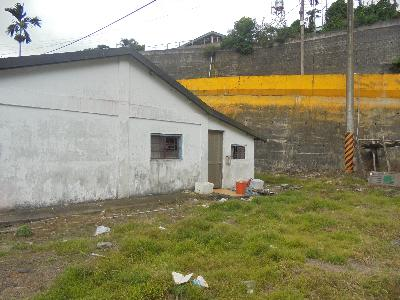box: (193, 179, 216, 197), (250, 176, 266, 189)
bucket: (236, 179, 249, 195)
